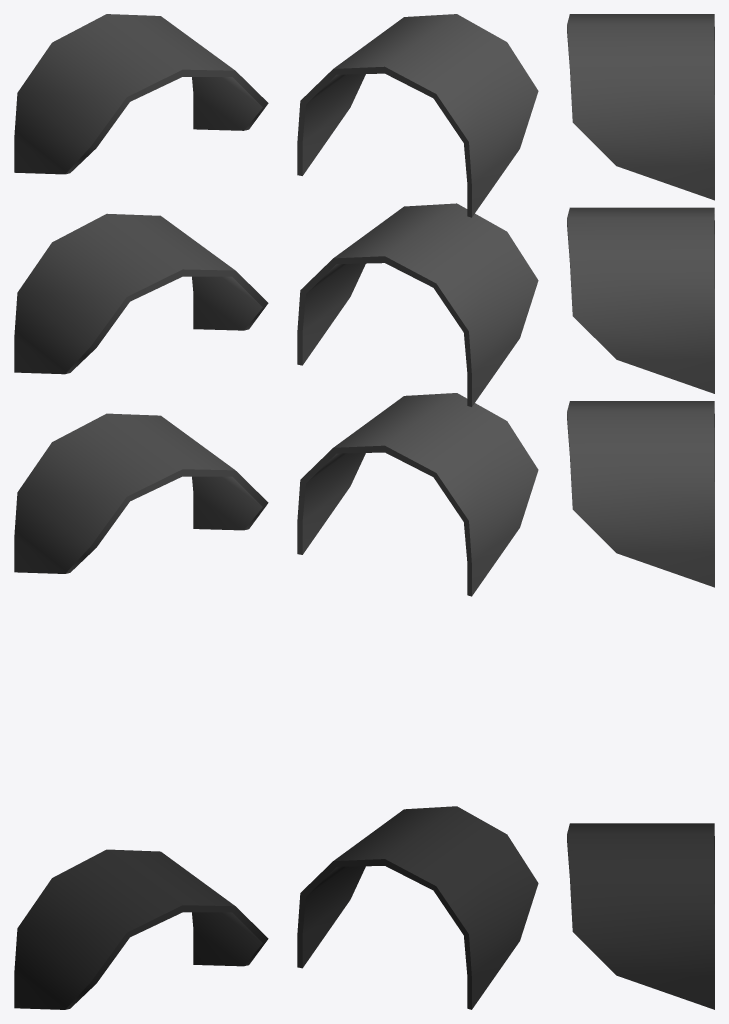
The model's file is SW_PROP_SignalLights_Cowling.fbx.
3 renders of one model, left to right at view 1: azimuth 30°, elevation 25°; view 2: azimuth 150°, elevation 25°; view 3: azimuth 270°, elevation 25°, orthographic. The views are drawn at different scales.
Visible parts, largest first — view 1: SW_PROP_SignalLights_Cowling; view 2: SW_PROP_SignalLights_Cowling; view 3: SW_PROP_SignalLights_Cowling.
Part boxes in pixels (<box>): SW_PROP_SignalLights_Cowling: <box>14,14,268,1009</box>; SW_PROP_SignalLights_Cowling: <box>297,14,538,1009</box>; SW_PROP_SignalLights_Cowling: <box>567,14,714,1009</box>.
Size of the model in its own units: 0.159 by 0.8028 by 0.1143.
